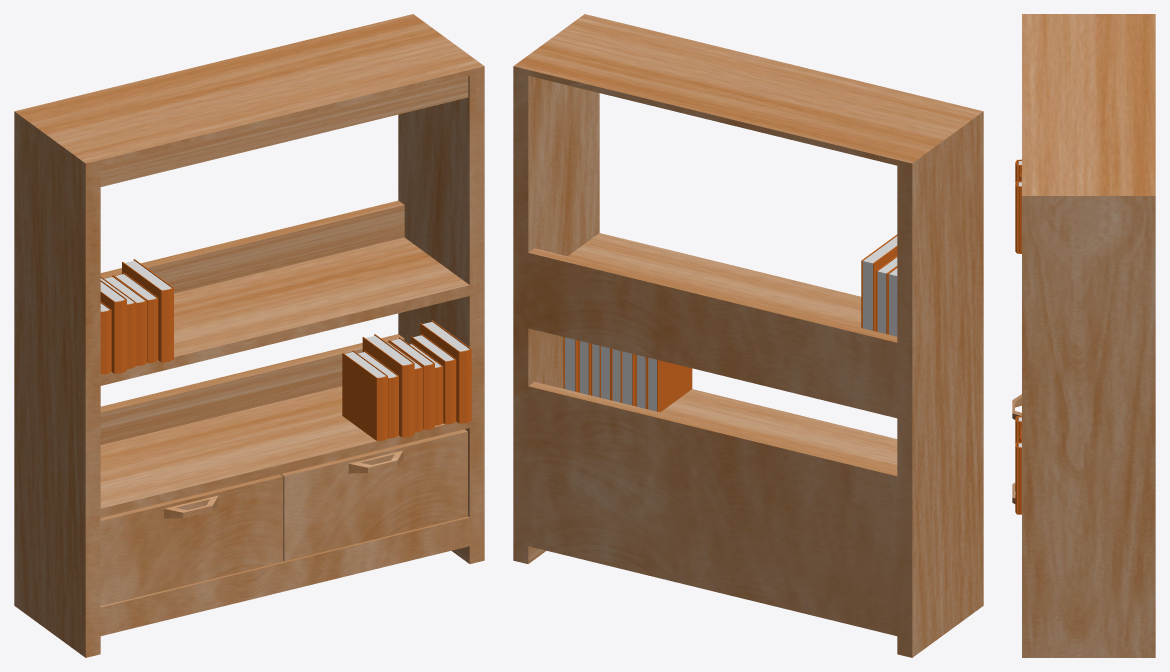
Rendered from Estante.fbx.
3 views of the same model, side by side, from view 1: azimuth 30°, elevation 25°; view 2: azimuth 150°, elevation 25°; view 3: azimuth 270°, elevation 25° (orthographic). The views are drawn at different scales.
Parts seen in each view (by area): view 1: Cube, Plano.026, Plano.022, Plano.011, Plano.012, Plano.003, Plano.015, Plano.019, Plano.008, Plano.044, Plano.007, Plano.025 (+2 smaller); view 2: Cube, Plano.026, Plano.010, Plano.009, Plano.011; view 3: Cube, Plano.011, Plano.012.
Boxes of the visible parts, x1,y1,x2,y2 form: Cube: (14, 14, 484, 657); Plano.026: (342, 350, 387, 441); Plano.022: (362, 334, 414, 437); Plano.011: (122, 259, 173, 362); Plano.012: (420, 320, 471, 423); Plano.003: (100, 280, 126, 373); Plano.015: (410, 334, 456, 424); Plano.019: (388, 337, 434, 430); Plano.008: (113, 272, 158, 363); Plano.044: (100, 302, 111, 374); Plano.007: (112, 275, 146, 365); Plano.025: (364, 350, 398, 438); Cube: (513, 14, 983, 657); Plano.026: (647, 357, 692, 412); Plano.010: (863, 236, 897, 330); Plano.009: (877, 257, 897, 333); Plano.011: (861, 234, 897, 331); Cube: (1012, 14, 1155, 657); Plano.011: (1015, 181, 1021, 253); Plano.012: (1015, 442, 1021, 514).
Size of the model in its own units: 645 by 764 by 215.
16 materials, 1 textured.
